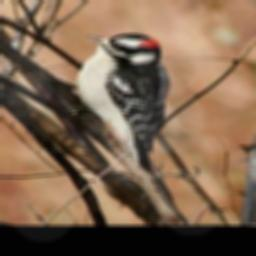Woodpecker: (69, 33, 169, 175)
